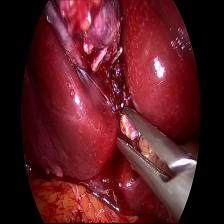Grasper: (113, 105, 196, 208)
